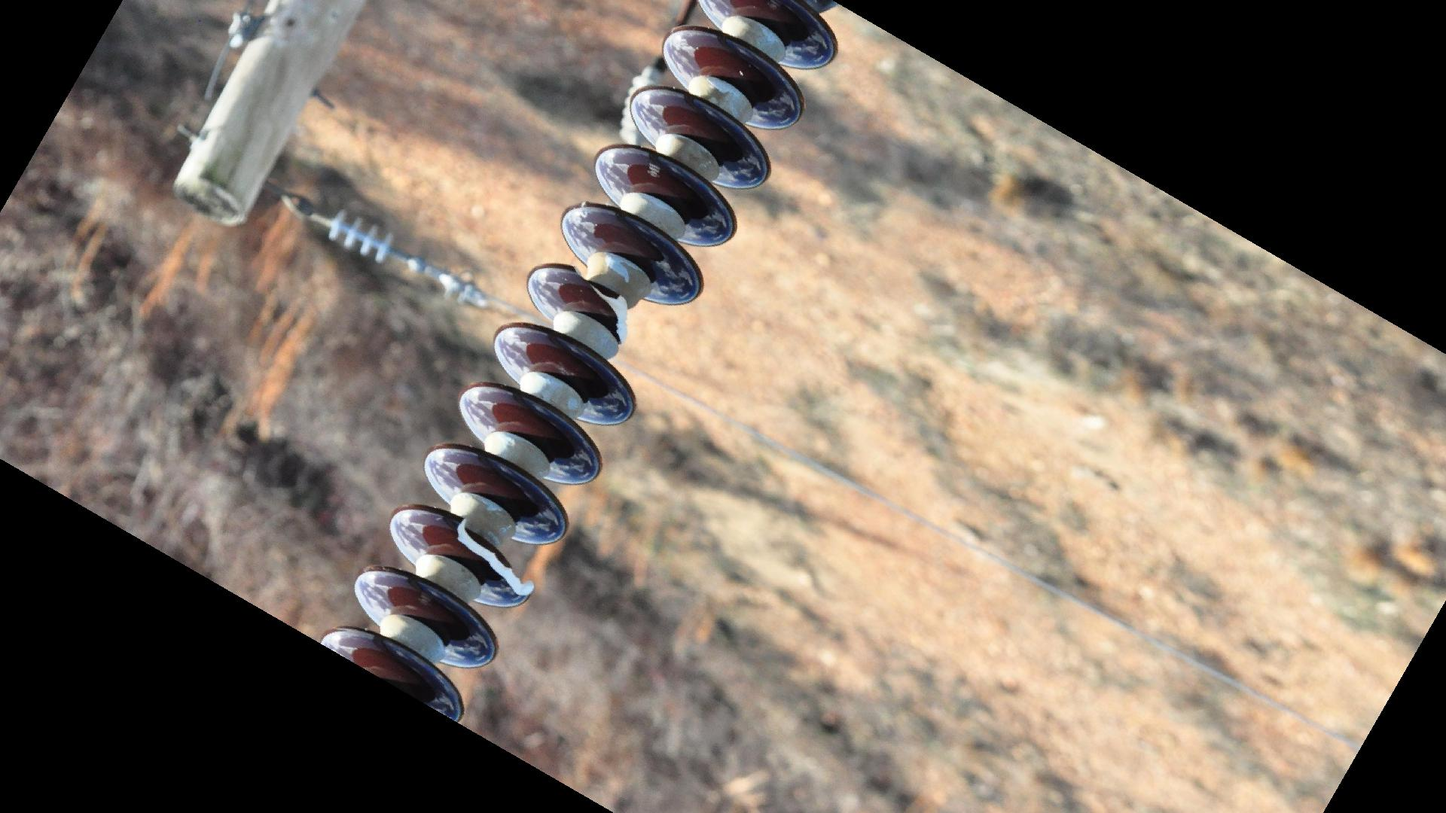insulator: (310, 1, 843, 729), (321, 207, 400, 268)
insulator_breakage: (446, 513, 543, 606), (563, 259, 636, 344)
